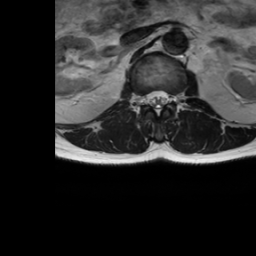CCS_normal: (153, 83, 162, 121)
LFS_normal: (169, 83, 176, 108)
LLS_normal: (162, 83, 169, 112)
RFS_normal: (138, 86, 146, 111)
RLS_normal: (146, 85, 153, 112)
